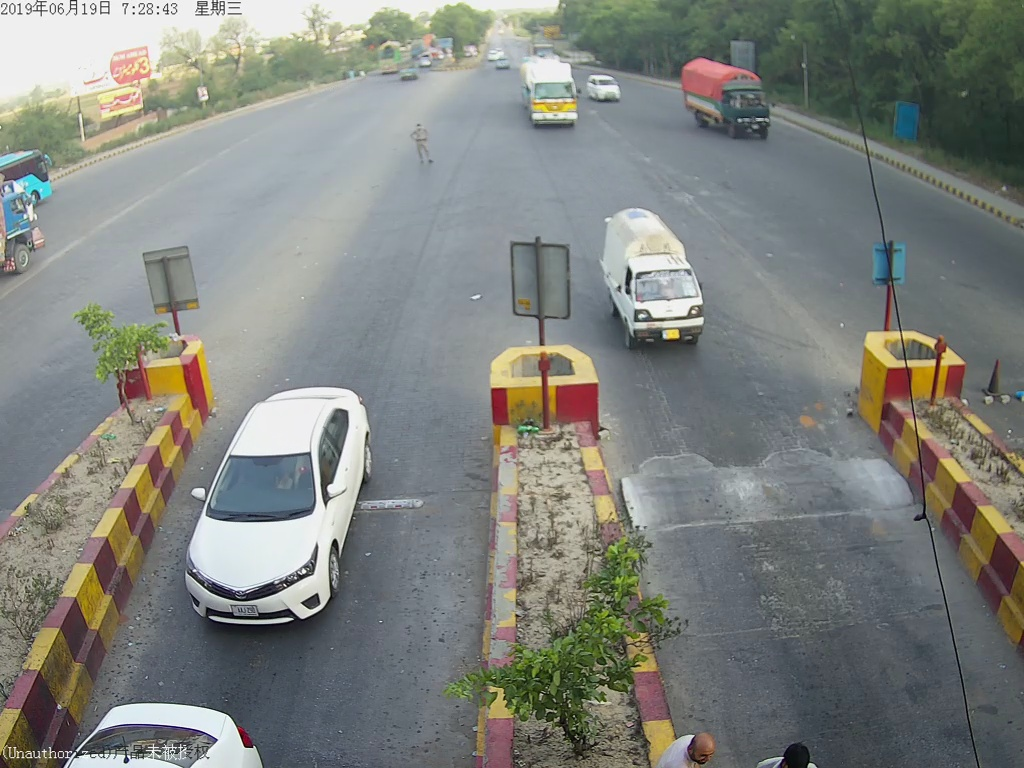Cat-1: (183, 390, 372, 633), (596, 212, 721, 362)
